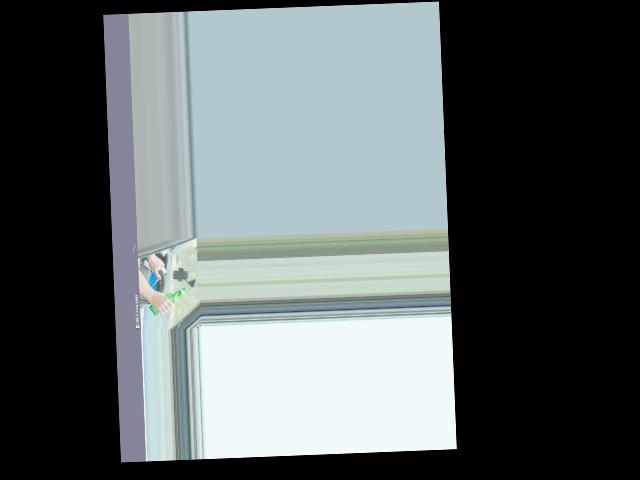beer: (147, 287, 186, 314)
